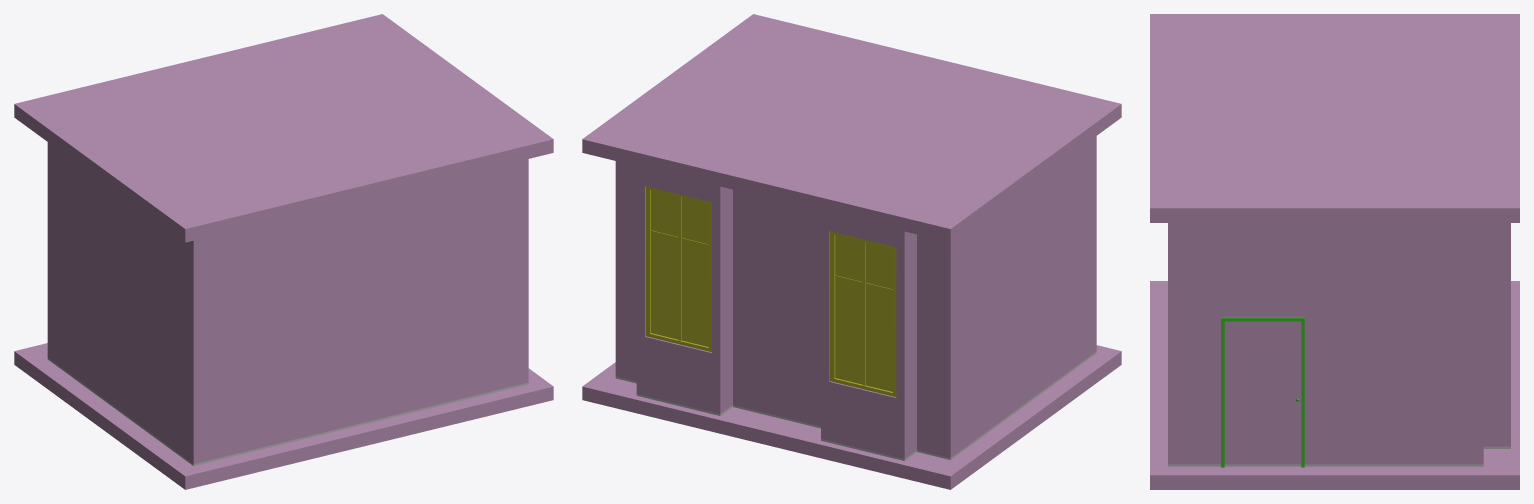
The model's file is FloorPlan317.fbx.
The picture shows the model from 3 angles, left to right: view 1: azimuth 30°, elevation 25°; view 2: azimuth 150°, elevation 25°; view 3: azimuth 270°, elevation 25°; orthographic projection. The views are drawn at different scales.
Parts seen in each view (by area): view 1: StandardWallSize.014, Ceiling.013, Floor.013; view 2: StandardWallSize.014, Ceiling.013, Floor.013, Window.008, Window (2); view 3: StandardWallSize.014, Ceiling.013, Floor.013, StandardDoorFrame1.012.
Part boxes in pixels (x1,y1,x2,y2): StandardWallSize.014: [47, 142, 528, 465]; Ceiling.013: [14, 14, 553, 242]; Floor.013: [14, 343, 553, 489]; StandardWallSize.014: [615, 136, 1096, 460]; Ceiling.013: [582, 14, 1121, 242]; Floor.013: [582, 345, 1121, 489]; Window.008: [830, 231, 896, 396]; Window (2): [646, 186, 711, 352]; StandardWallSize.014: [1168, 223, 1510, 466]; Ceiling.013: [1150, 14, 1519, 222]; Floor.013: [1150, 281, 1519, 489]; StandardDoorFrame1.012: [1221, 317, 1304, 467].
Size of the model in its own units: 569 by 385 by 458.
